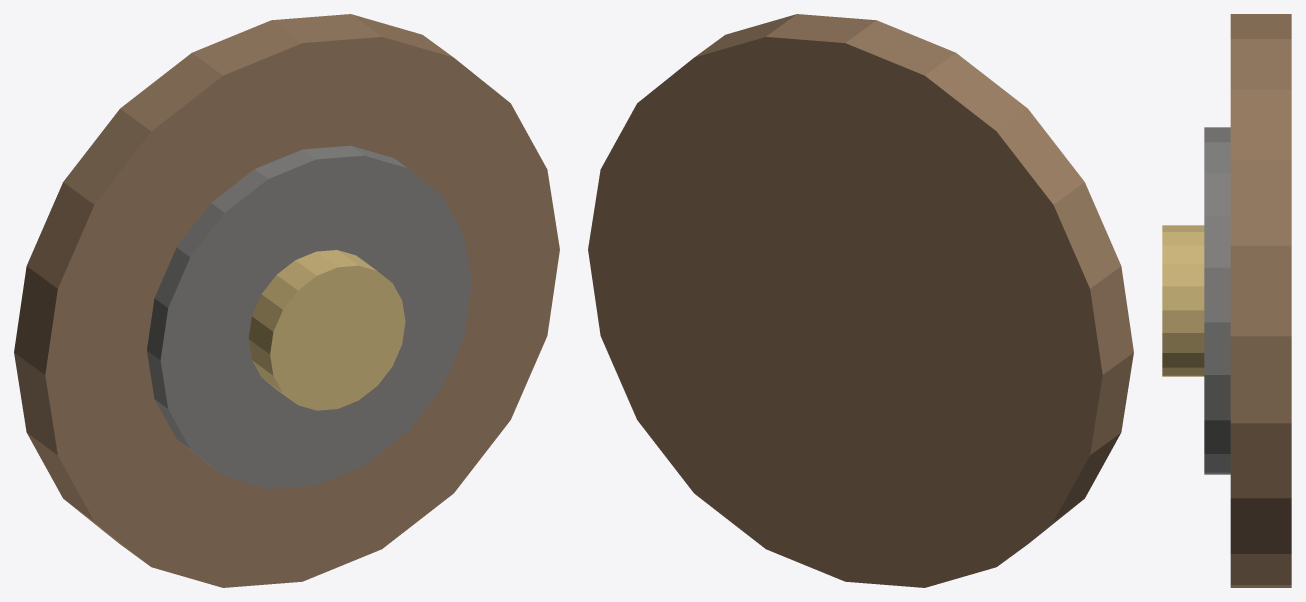
File: round_shield_wood_iron.glb
3 views of the same model, side by side, from view 1: azimuth 30°, elevation 25°; view 2: azimuth 150°, elevation 25°; view 3: azimuth 270°, elevation 25° (orthographic). The views are drawn at different scales.
Parts seen in each view (by area): view 1: shield_wood, shield_rim, shield_boss; view 2: shield_wood; view 3: shield_wood, shield_rim, shield_boss.
Boxes of the visible parts, <box> form: shield_wood: <box>14,14,559,587</box>; shield_rim: <box>147,145,471,489</box>; shield_boss: <box>248,250,405,410</box>; shield_wood: <box>588,14,1133,587</box>; shield_wood: <box>1230,14,1291,587</box>; shield_rim: <box>1204,127,1230,474</box>; shield_boss: <box>1162,225,1204,376</box>.
Bounding box in the file's own units: 0.76 × 0.76 × 0.17.
